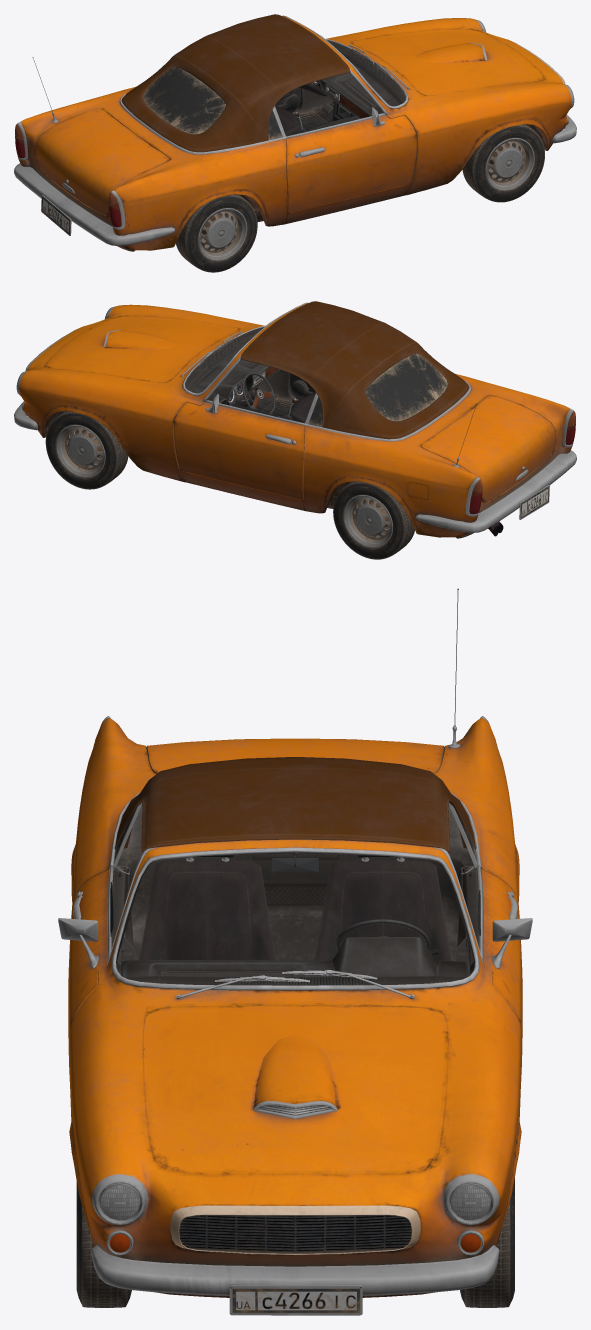
The model's file is coupe.glb.
The picture shows the model from 3 angles, top to bottom: view 1: azimuth 30°, elevation 25°; view 2: azimuth 150°, elevation 25°; view 3: azimuth 270°, elevation 25°; orthographic projection. The views are drawn at different scales.
Parts seen in each view (by area): view 1: Object_3, Object_2, Object_4, Object_6, Object_5; view 2: Object_3, Object_2, Object_4, Object_6, Object_5; view 3: Object_3, Object_4, Object_2, Object_5.
Part boxes in pixels (box(x1,y1,x2,y2)): Object_3: box(14, 14, 576, 250); Object_2: box(117, 124, 546, 272); Object_4: box(220, 40, 405, 136); Object_6: box(143, 66, 359, 140); Object_5: box(15, 81, 318, 227); Object_3: box(14, 301, 576, 537); Object_2: box(44, 411, 503, 559); Object_4: box(185, 327, 438, 423); Object_6: box(232, 353, 447, 427); Object_5: box(228, 382, 575, 514); Object_3: box(58, 588, 532, 1315); Object_4: box(111, 805, 479, 985); Object_2: box(76, 1178, 514, 1307); Object_5: box(99, 1183, 491, 1253).
Size of the model in its own units: 478 by 159 by 202.
Materials: 5 (5 with a texture image).
